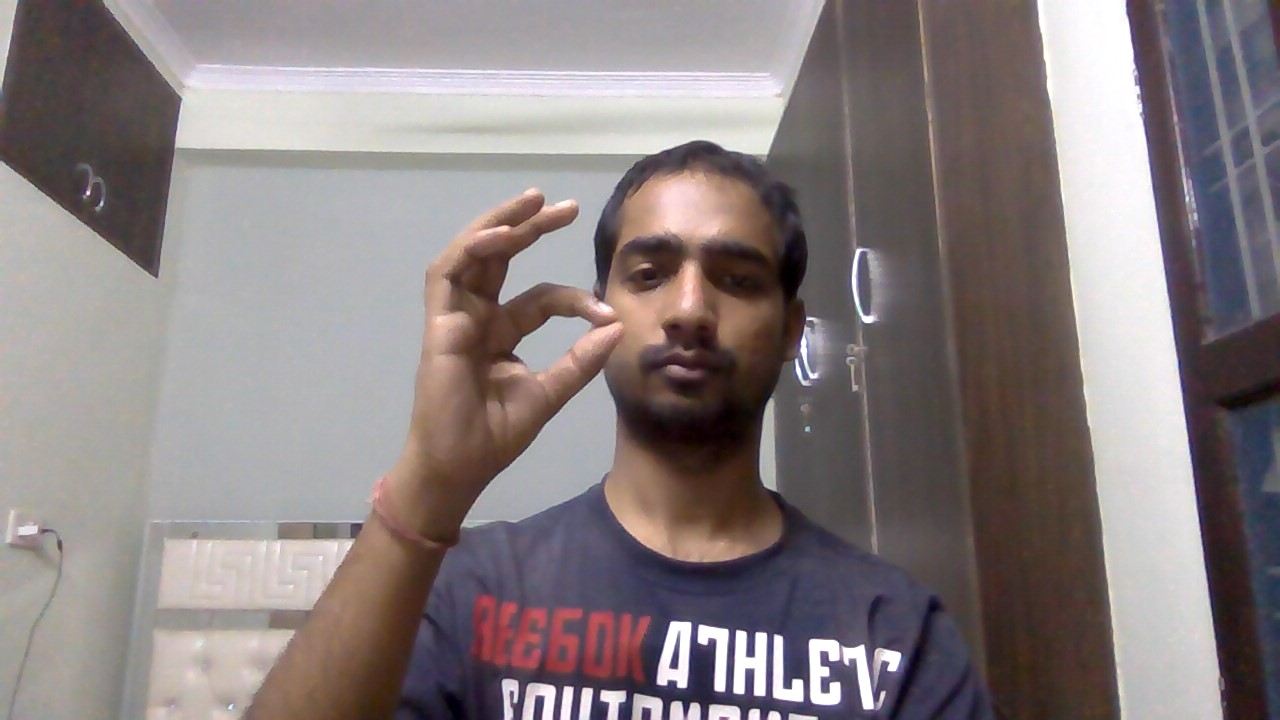Copy: (401, 179, 636, 506)
